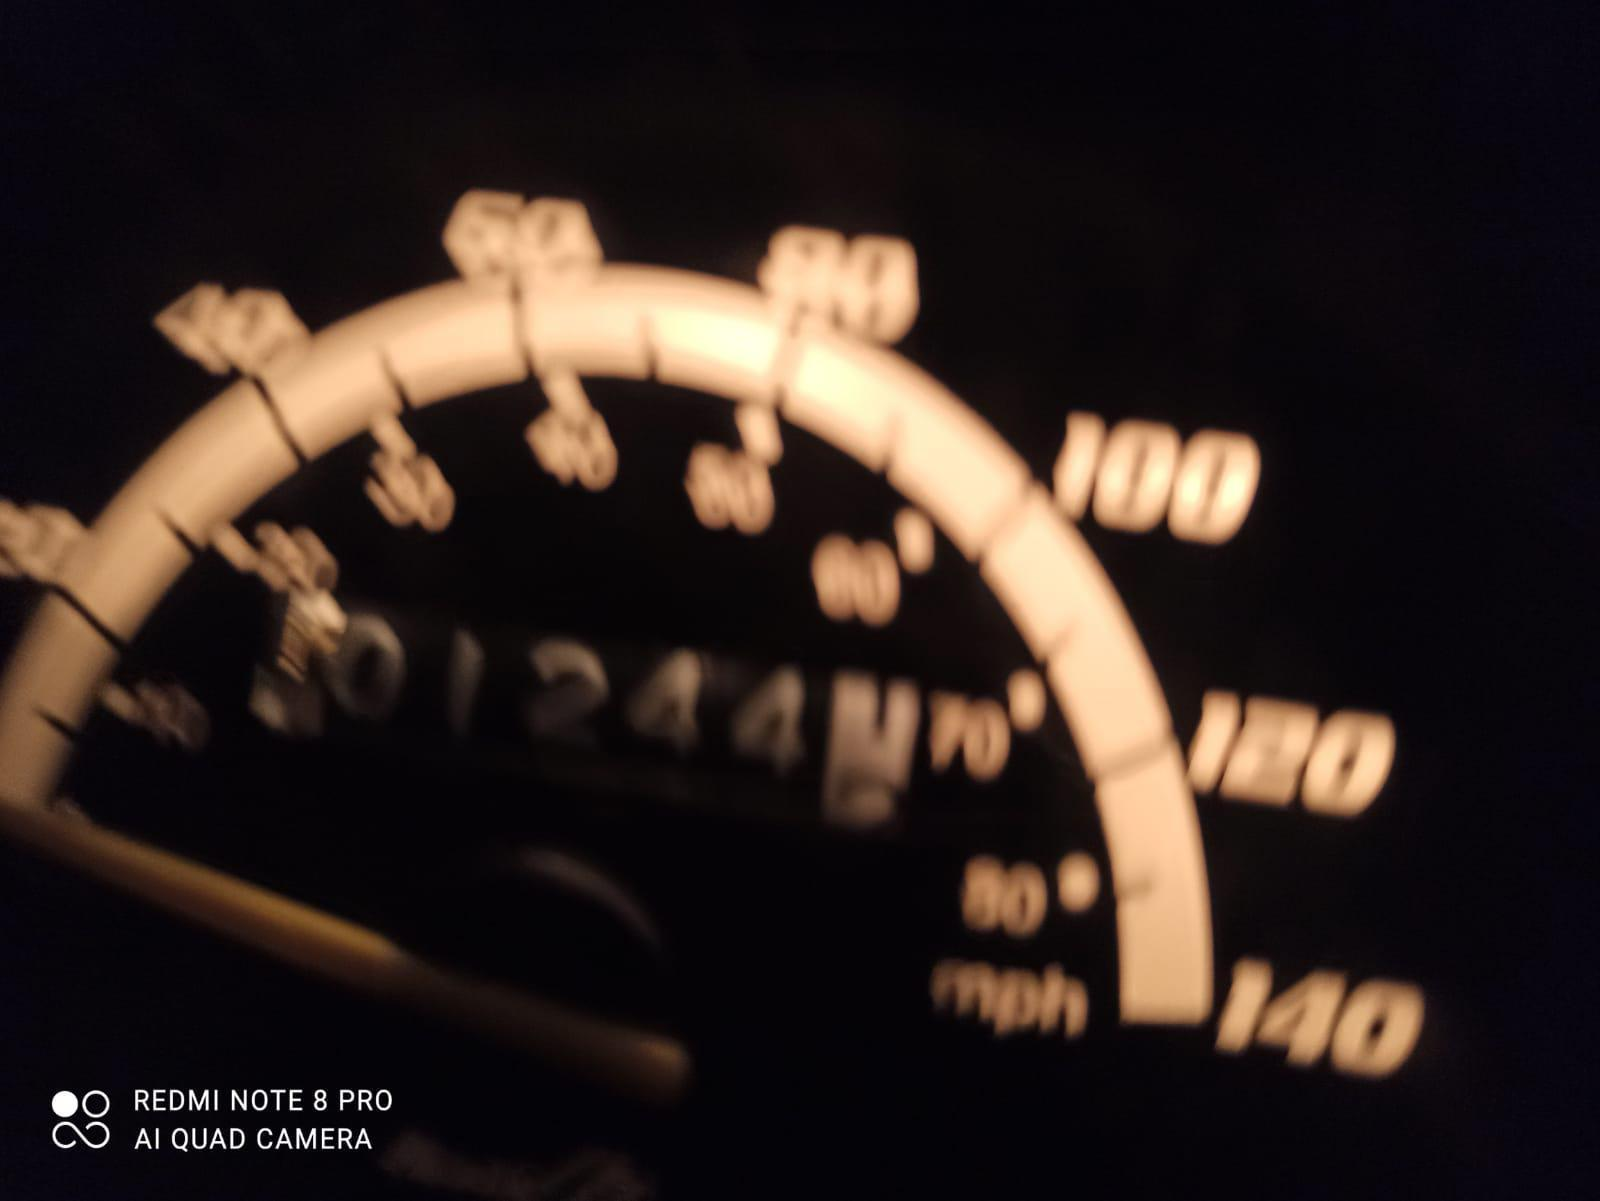0: (333, 612, 405, 751)
1: (432, 619, 498, 794), (861, 641, 911, 772)
2: (527, 633, 607, 765)
4: (631, 643, 710, 783), (734, 656, 814, 788)
odometer: (293, 602, 932, 848)
